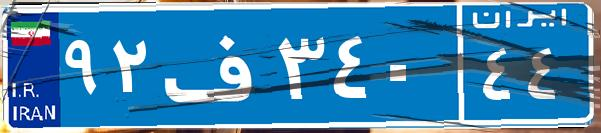0: (385, 28, 445, 110)
2: (110, 28, 158, 105)
3: (273, 28, 330, 110)
4: (330, 28, 385, 110), (475, 38, 525, 113), (525, 38, 570, 115)
9: (57, 26, 110, 107)
ف: (158, 15, 273, 115)
